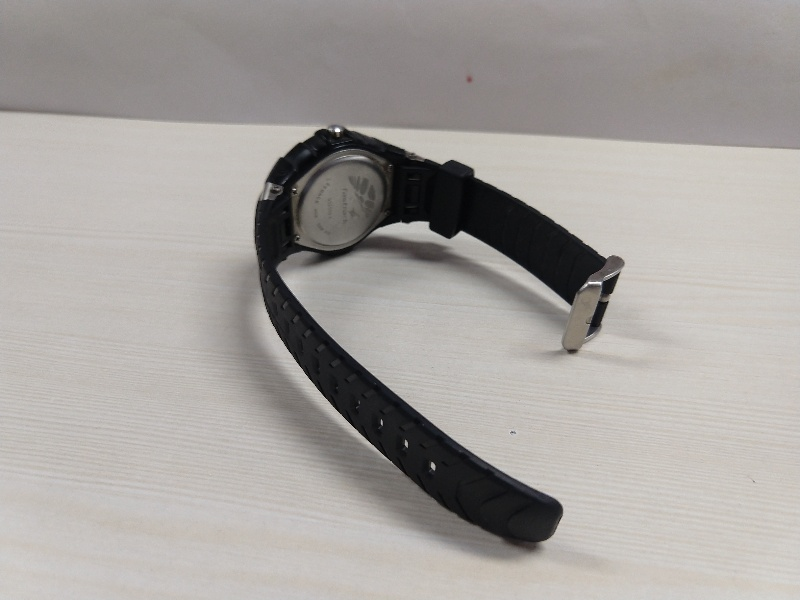watch: (247, 124, 647, 553)
